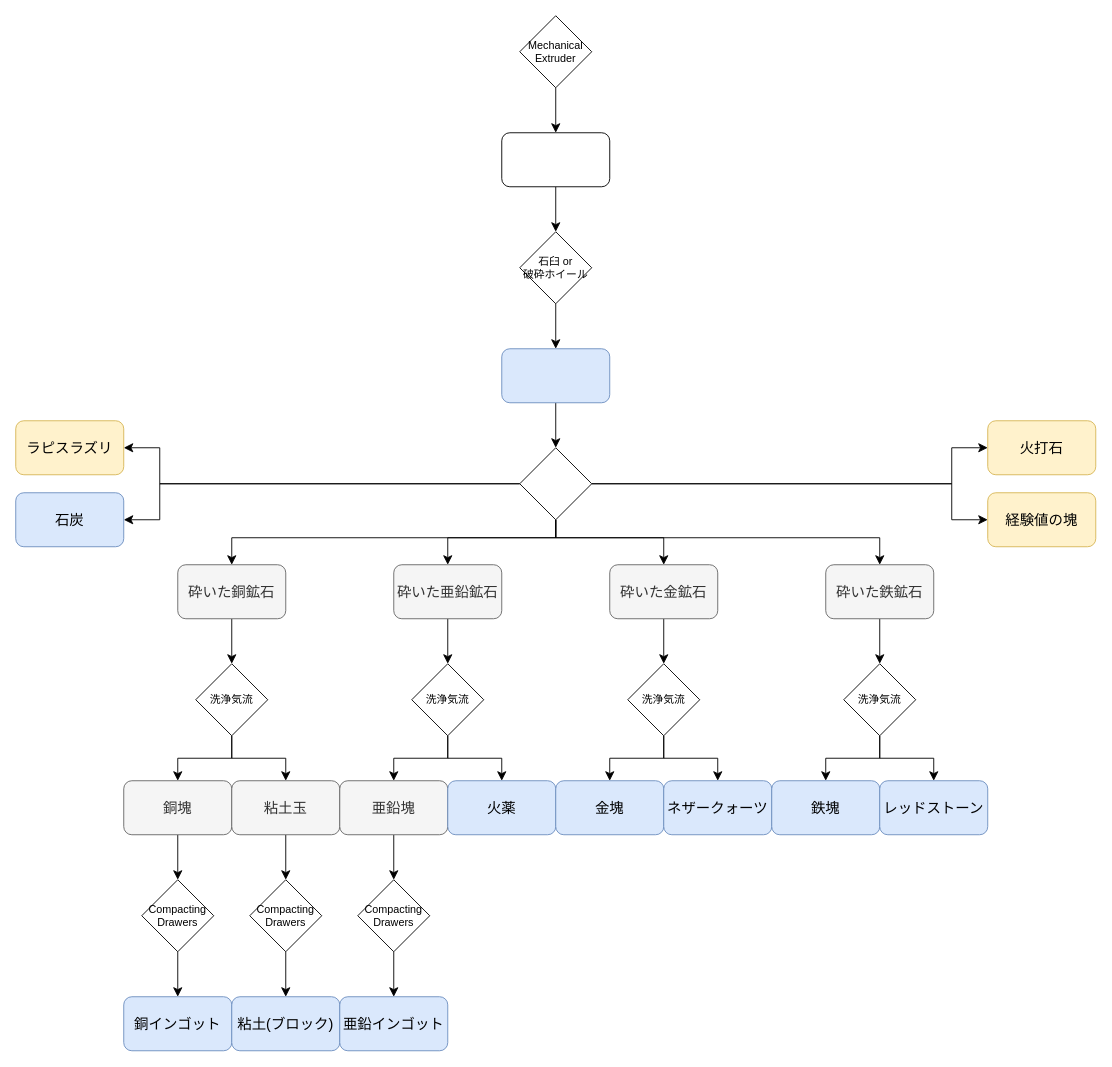
Some shapes in this 1112 by 1067 pixel diagram are drawn without their labels. The shapes that lost their labels are listed below. From the top down, each one's box as (x1, y1, x2, y2) in pixels, then its label:
(501, 132, 610, 187): 丸石
(501, 348, 610, 403): 砂利
(519, 447, 592, 520): ふるい (真鍮)
